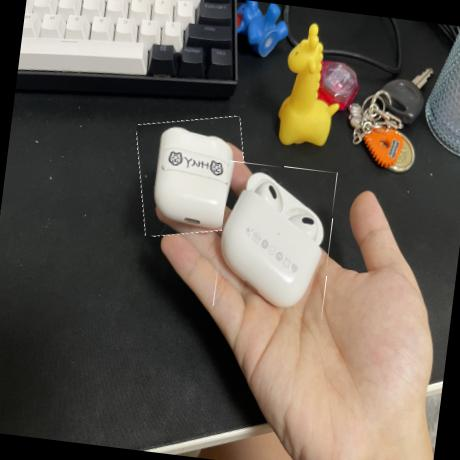airpod2: (128, 110, 256, 244)
airpod3: (212, 160, 339, 320)
